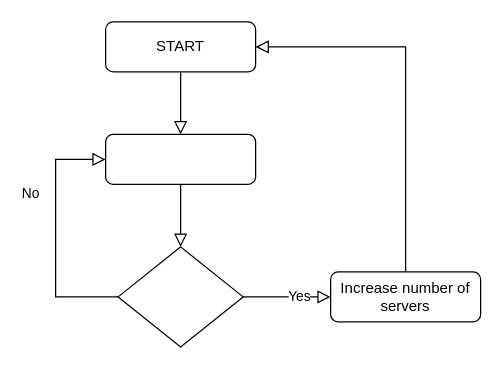
Image size: 503x369. Some labels were removed from this diagram. Here are the shapes that lost their labels. From the top down, the centre of each, then its label:
At (x=180, y=158): "Increase Load".
At (x=180, y=296): "Has system crashed?".
